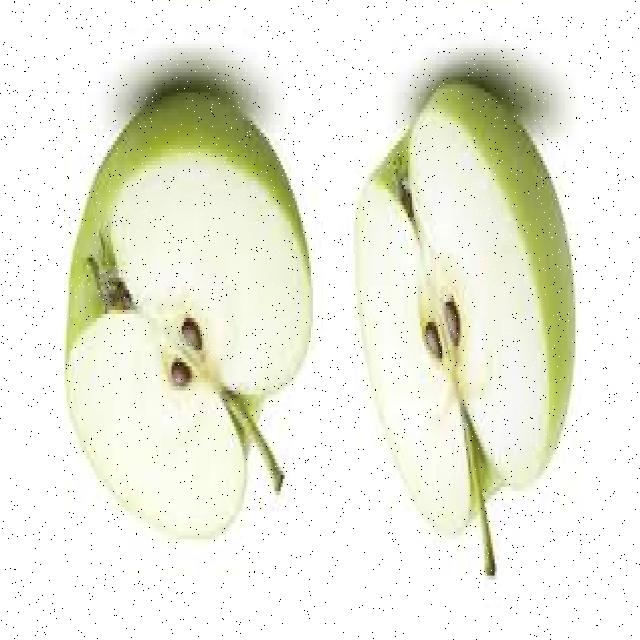Apple: (68, 88, 314, 540), (356, 79, 574, 578)
